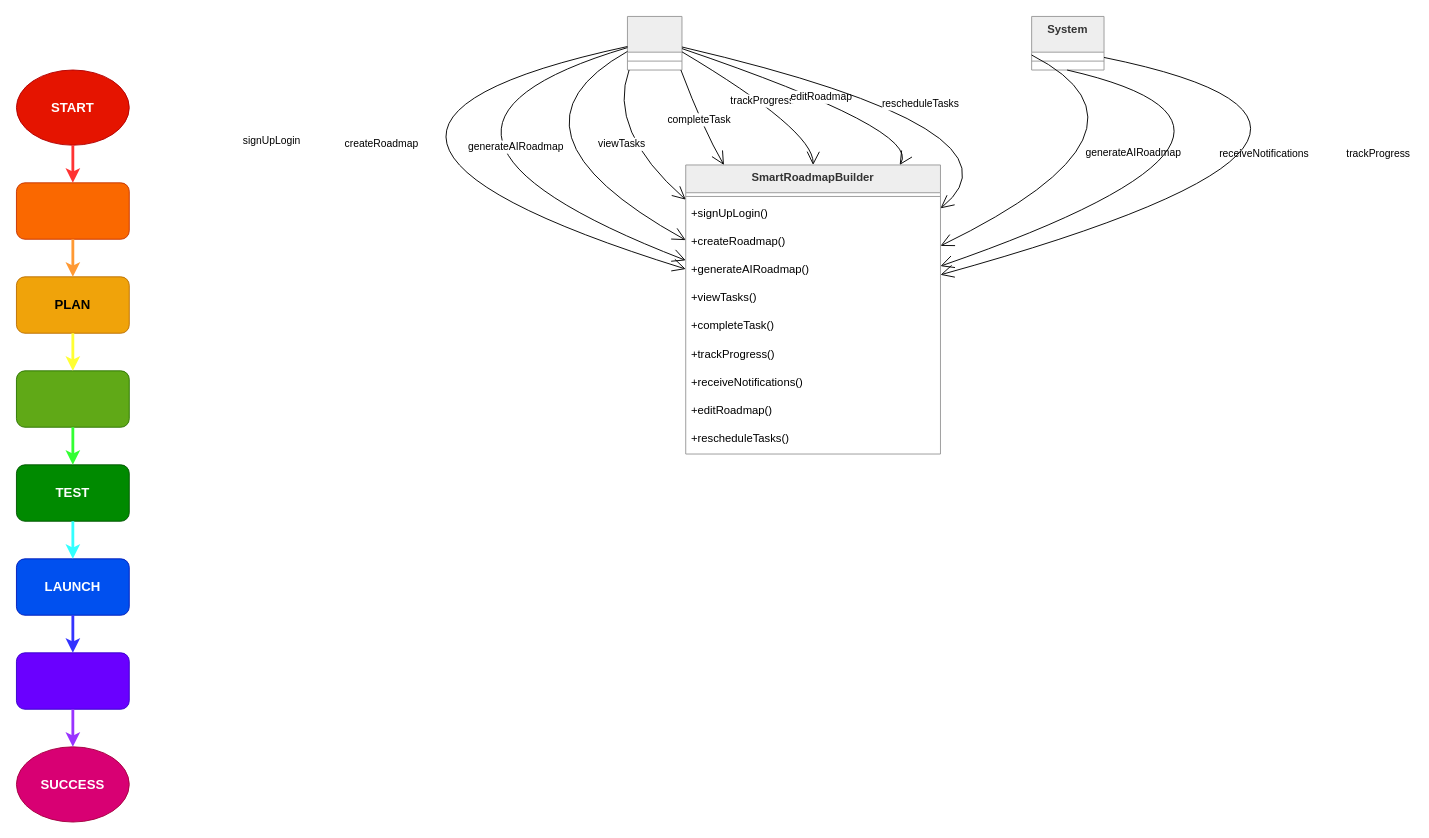
This 1429x838 diagram has some shape labels left out. Each missing label, with the centre of its shape:
BUILD: [72,398]
GROW: [72,680]
IDEA: [72,210]
User: [654,43]
